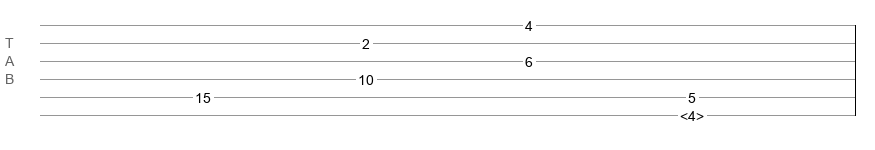10: (358, 72, 374, 82)
15: (195, 90, 211, 100)
2: (362, 36, 370, 46)
4: (525, 18, 533, 28)
5: (688, 90, 696, 100)
6: (525, 54, 533, 64)
harmonic: (680, 108, 704, 118)
